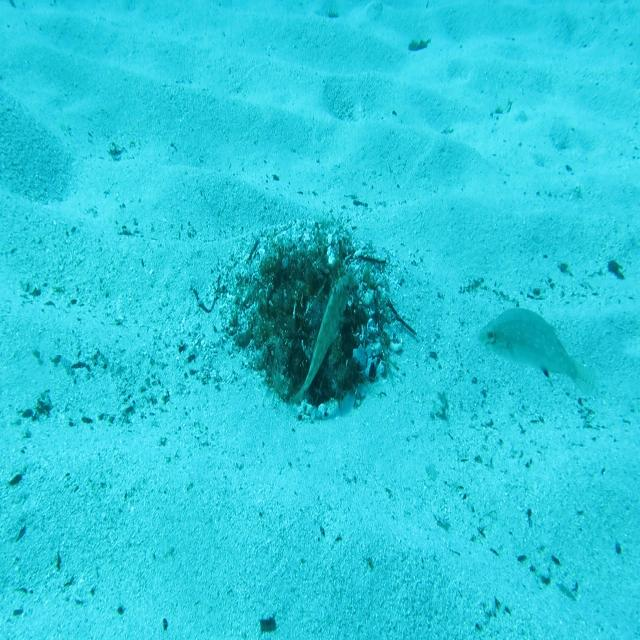FAN: (287, 267, 355, 414)
core_nest: (281, 258, 326, 294)
female: (476, 304, 597, 402)
nest: (208, 208, 406, 440)
vegetation: (410, 33, 430, 54), (607, 259, 626, 280), (259, 613, 276, 636)
